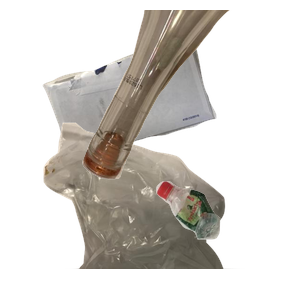glass: (80, 10, 300, 182)
paper: (40, 35, 249, 187)
plastic: (153, 178, 300, 300)
trash: (41, 120, 276, 300)
